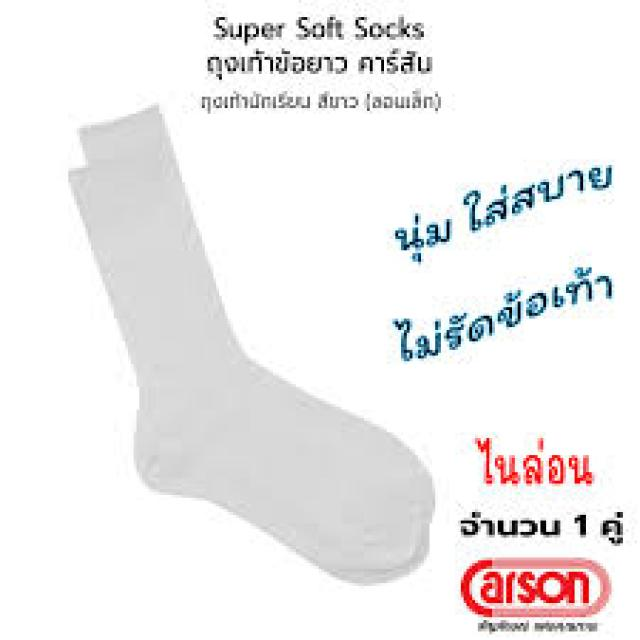sock: (66, 100, 436, 586)
